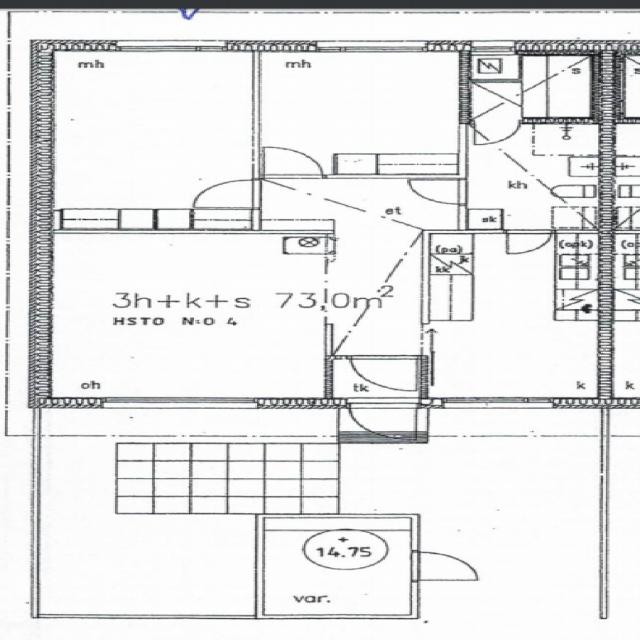door: (346, 395, 413, 440), (348, 355, 412, 390), (408, 550, 478, 580), (264, 144, 323, 178), (197, 180, 260, 207), (472, 117, 518, 146), (410, 180, 467, 203)
